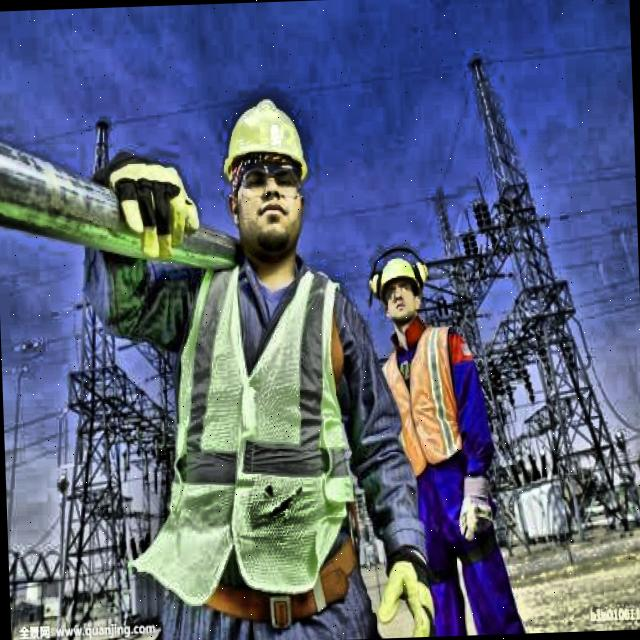helmet: (210, 70, 324, 272), (366, 235, 434, 341)
